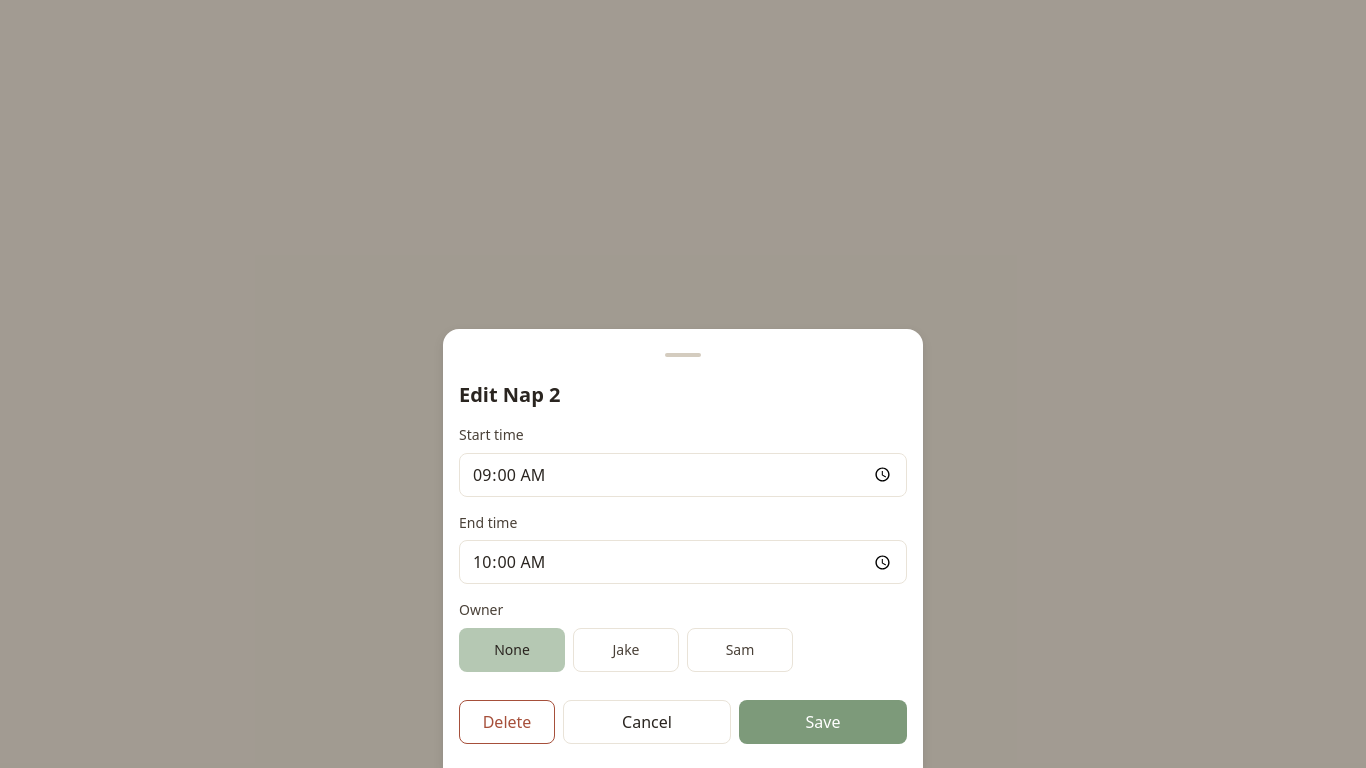
Test: Past-threshold prompt when editing a nap (physiology cascade) › Escape dismisses the prompt without saving (returns to drawer)
The width and height of the screenshot is (1366, 768).
Replace the text in the time field labelled "Start time" with "20:00" at [683, 475], box [459,453,907,497]
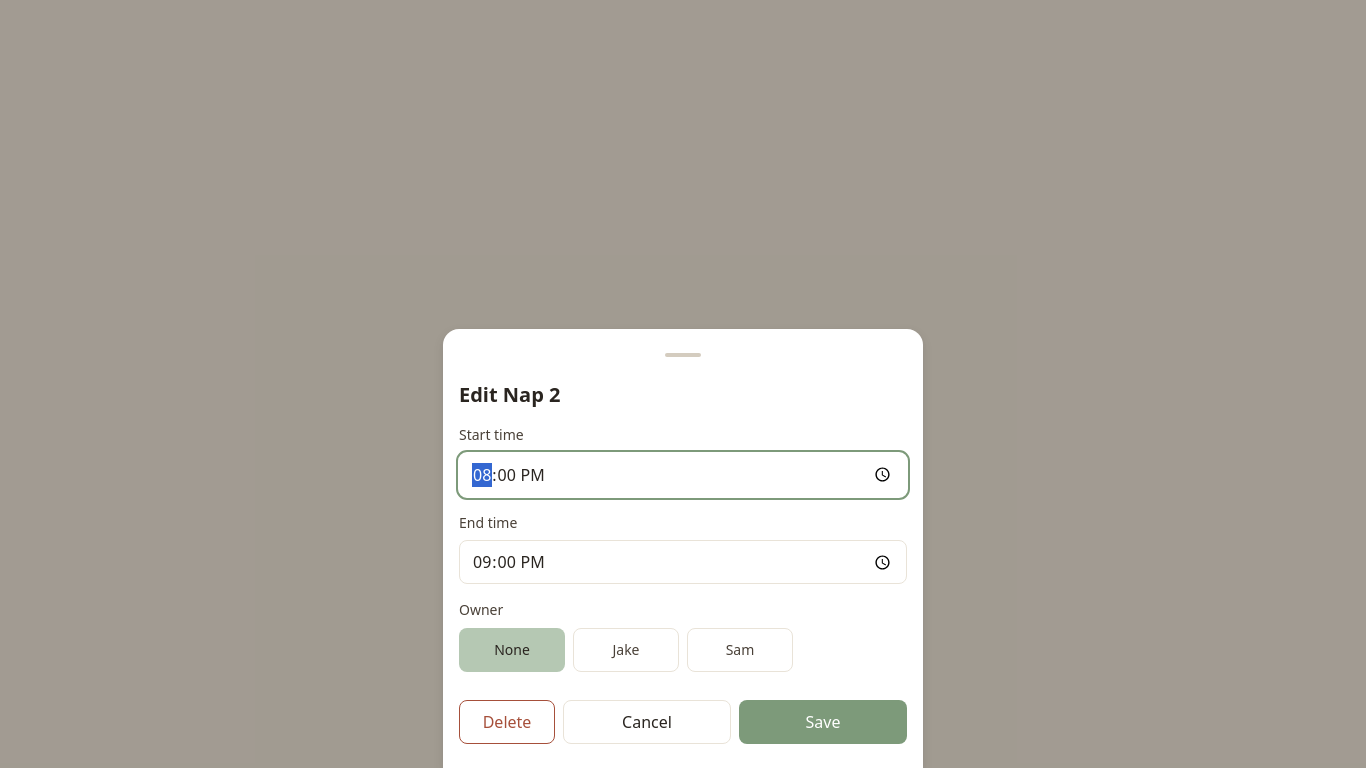
Click the button "Save".
click(823, 722)  # box [739,700,907,744]
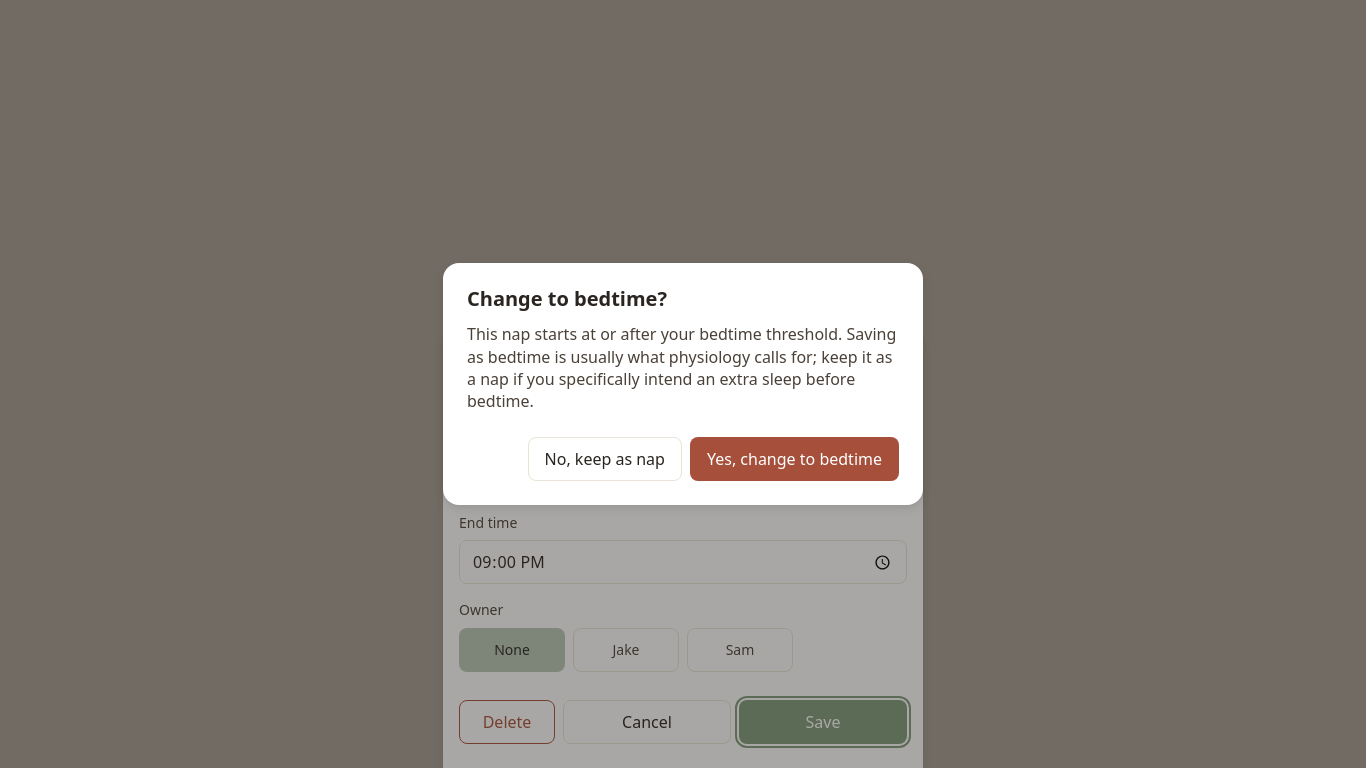
Now the heading "Change to bedtime?" is shown, box [467,285,667,312]
# Escape dismisses without saving or deleting.
Press Escape
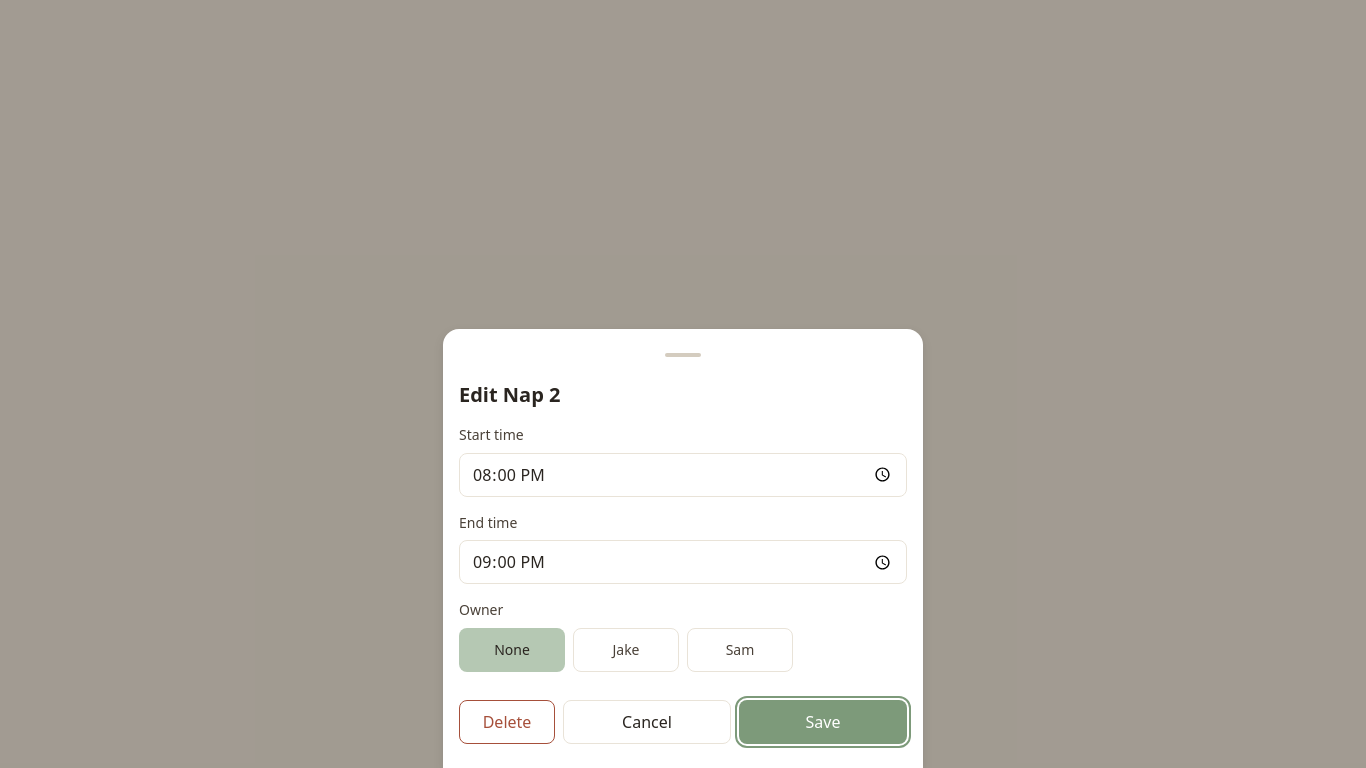
Now the heading "Change to bedtime?" is gone
